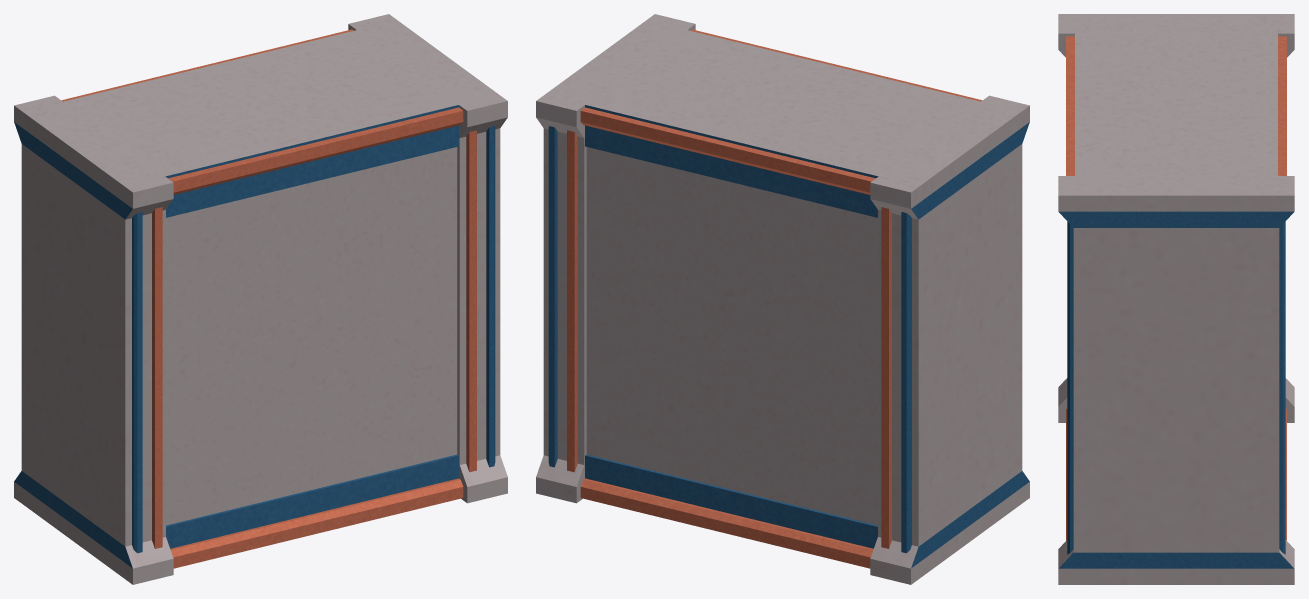
The model's file is StraightWall01.fbx.
The picture shows the model from 3 angles, left to right: view 1: azimuth 30°, elevation 25°; view 2: azimuth 150°, elevation 25°; view 3: azimuth 270°, elevation 25°; orthographic projection.
Parts seen in each view (by area): view 1: StraightWall; view 2: StraightWall; view 3: StraightWall.
Part boxes in pixels (left/top/right/bottom): StraightWall: left=14, top=14, right=507, bottom=584; StraightWall: left=536, top=14, right=1029, bottom=584; StraightWall: left=1058, top=14, right=1294, bottom=584.
Size of the model in its own units: 1000 by 1000 by 549.
